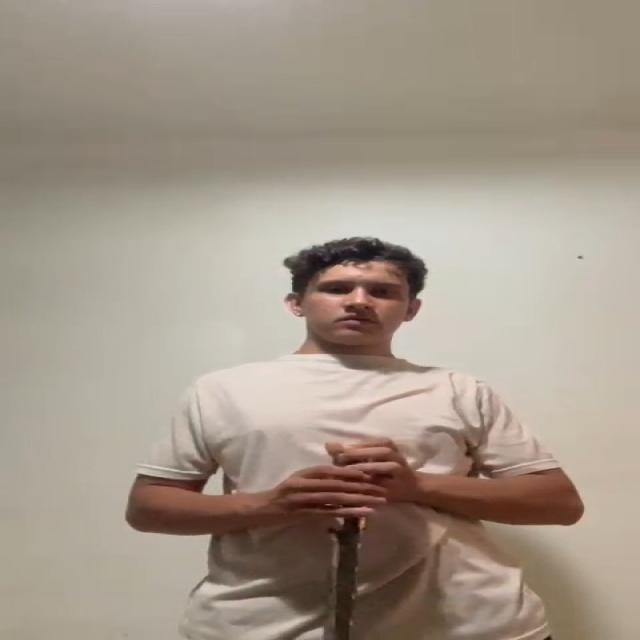knife: (317, 533, 363, 640)
